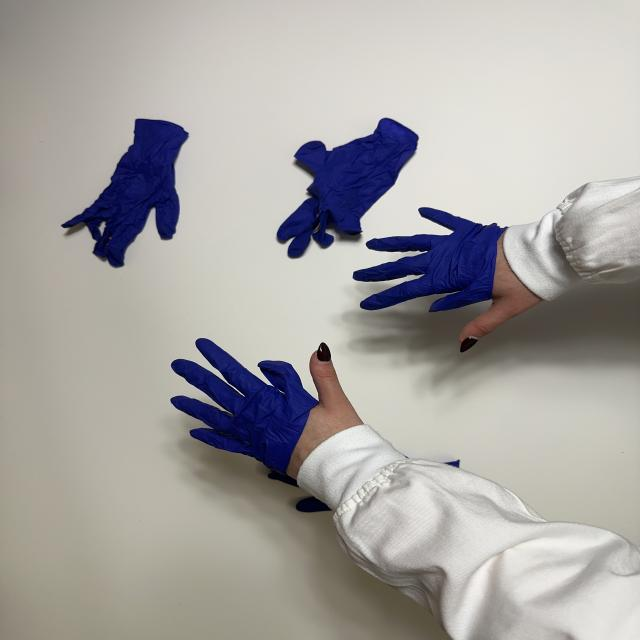glove_partial: (163, 335, 368, 485), (349, 205, 544, 352)
